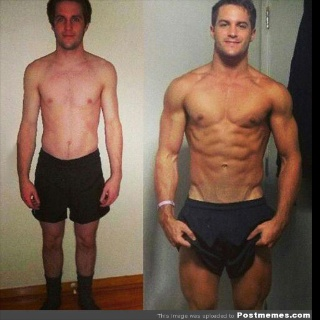without_mask: (214, 3, 252, 56), (53, 0, 85, 48)
